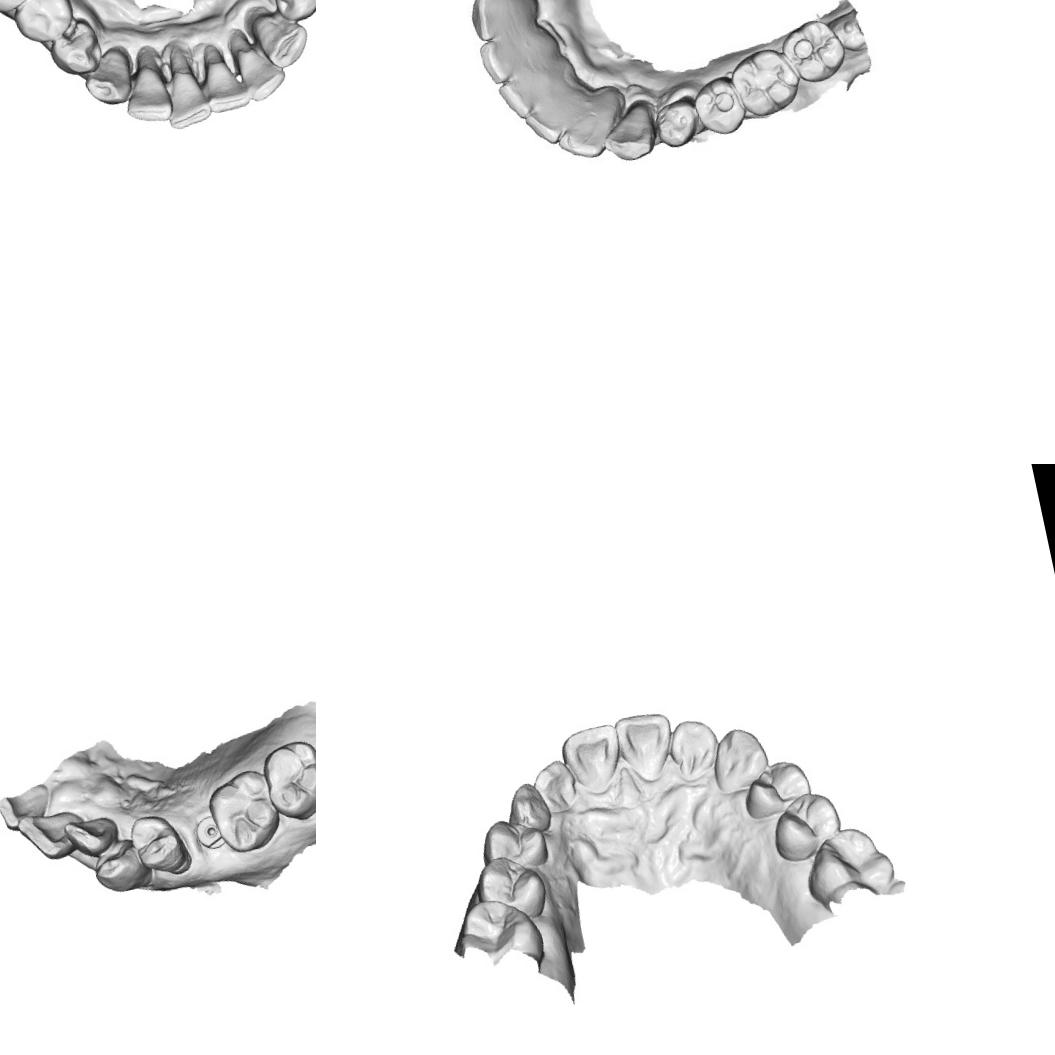canine: (704, 721, 774, 798), (598, 101, 661, 167), (89, 835, 150, 897), (78, 47, 136, 112), (254, 10, 314, 72), (462, 0, 543, 45), (504, 778, 555, 835)
implant: (192, 812, 227, 854)
incisor: (612, 708, 680, 788), (557, 720, 627, 797), (15, 806, 90, 866), (665, 713, 725, 781), (232, 38, 289, 106), (157, 64, 213, 132), (120, 62, 176, 128), (481, 28, 542, 88), (526, 755, 584, 818), (196, 52, 252, 117), (556, 112, 616, 166), (61, 810, 123, 861), (0, 782, 53, 832), (498, 70, 549, 118), (525, 100, 576, 145)
molar: (796, 819, 899, 910), (201, 765, 286, 859), (454, 889, 548, 972), (722, 40, 803, 123), (775, 12, 854, 89), (257, 734, 316, 826)
premolar: (466, 847, 552, 926), (764, 786, 848, 866), (738, 753, 814, 822), (126, 809, 194, 882), (476, 810, 552, 873), (44, 15, 109, 80), (689, 72, 750, 141), (651, 88, 710, 156), (8, 0, 80, 50), (265, 0, 316, 26)
